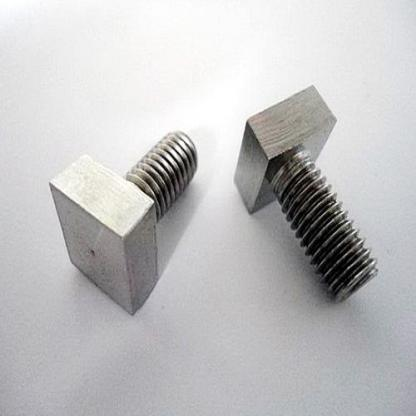FOD: (230, 82, 382, 307), (48, 127, 201, 318)
